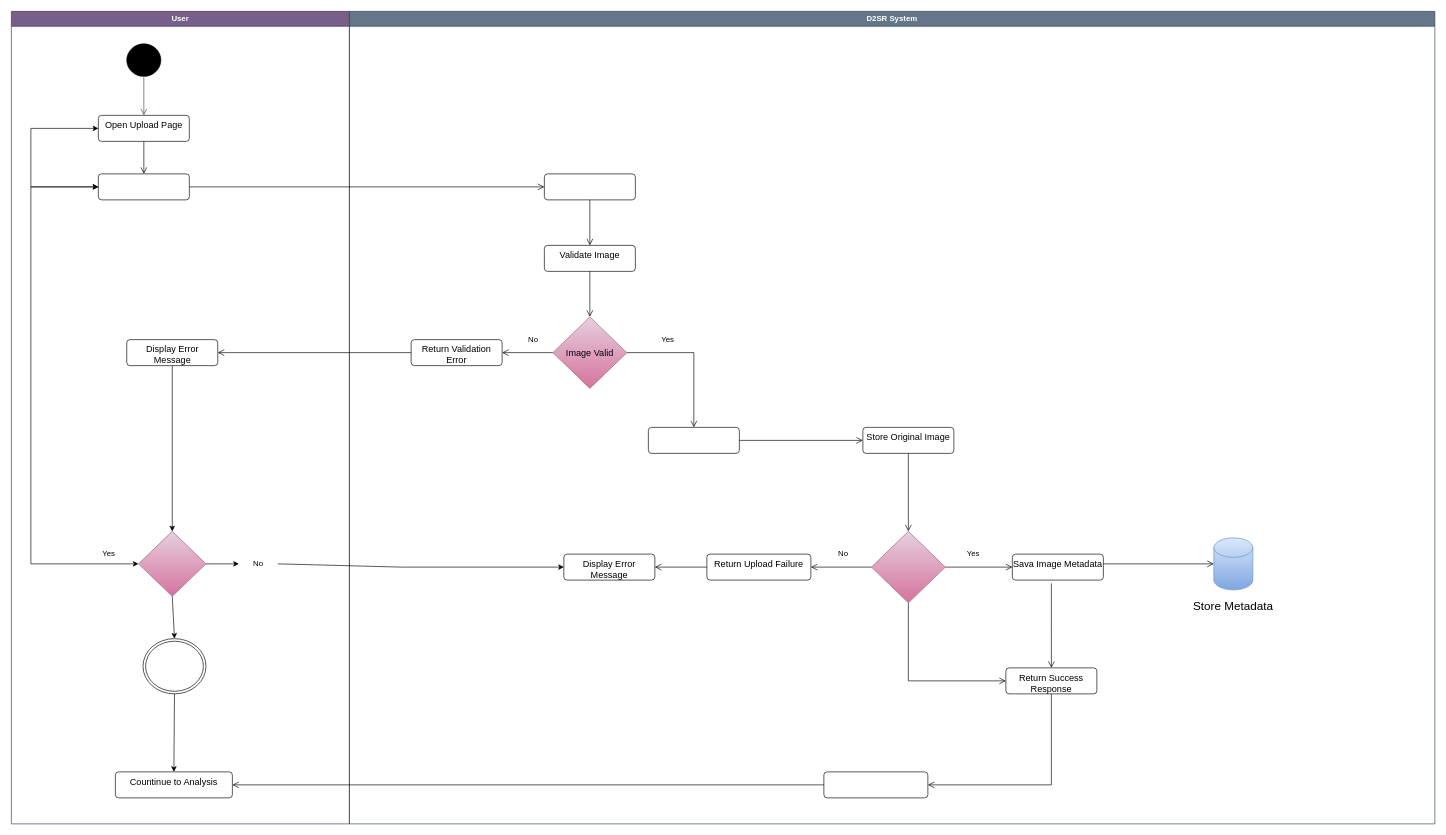
Image size: 1446x835. Some labels were removed from this diagram. The shapes that lost their labels are listed below. From the top down, each one's centre as x and y in pixels, then its label:
point (143, 186): Select Image
point (589, 186): Receive Image File
point (693, 440): Request Secure image Storage
point (172, 563): Retry Upoad
point (908, 567): Storage Succwssful
point (875, 784): Show Upload Success
